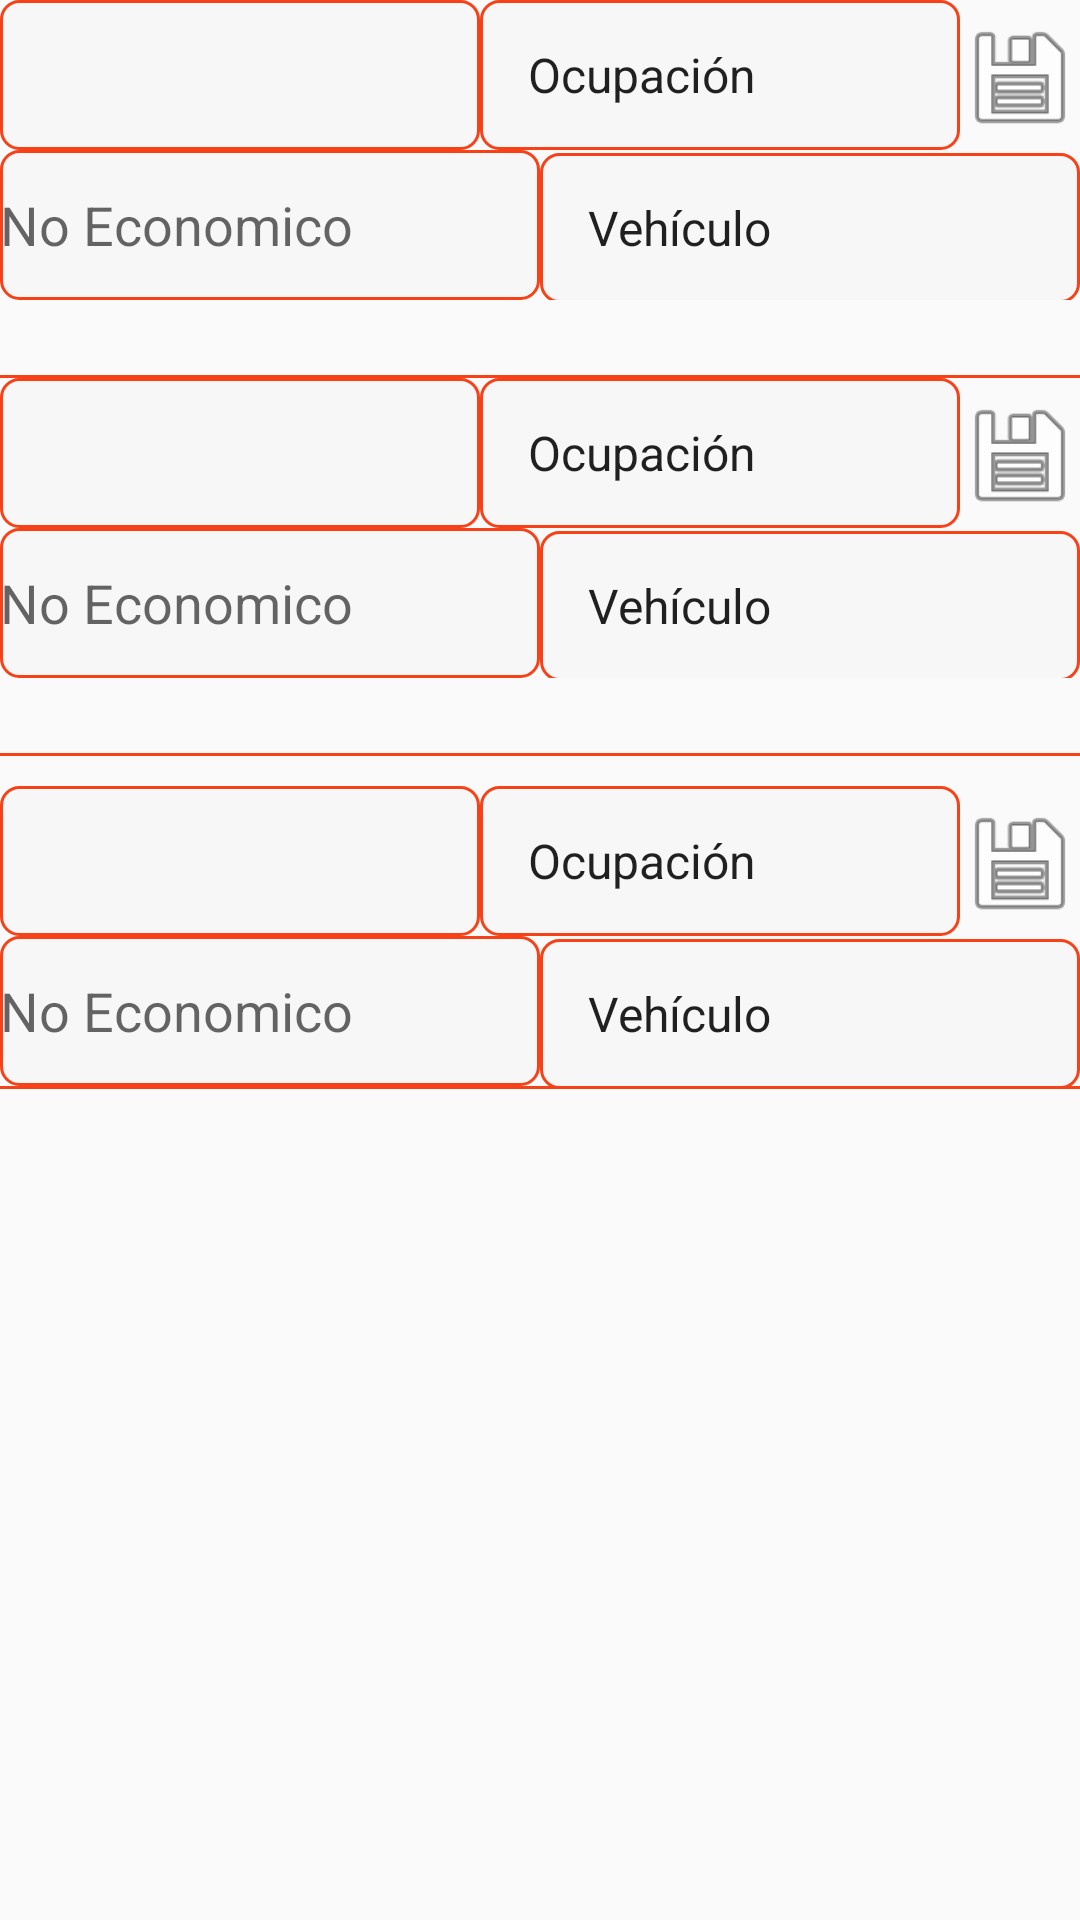

Icon bounding boxes for this 1080w x 1920h phone screenshot, format bbox=[x1, y1, x2, y2]:
save: bbox=[975, 32, 1065, 124], bbox=[975, 410, 1065, 502], bbox=[975, 818, 1065, 910]
